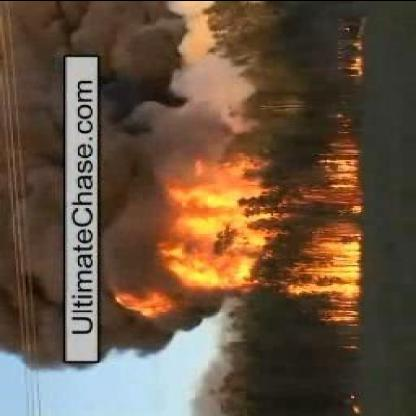-: (105, 40, 171, 289), (13, 66, 60, 368)
foggia-v2-map80-epoch100 - v1 4323: (297, 241, 359, 297)
